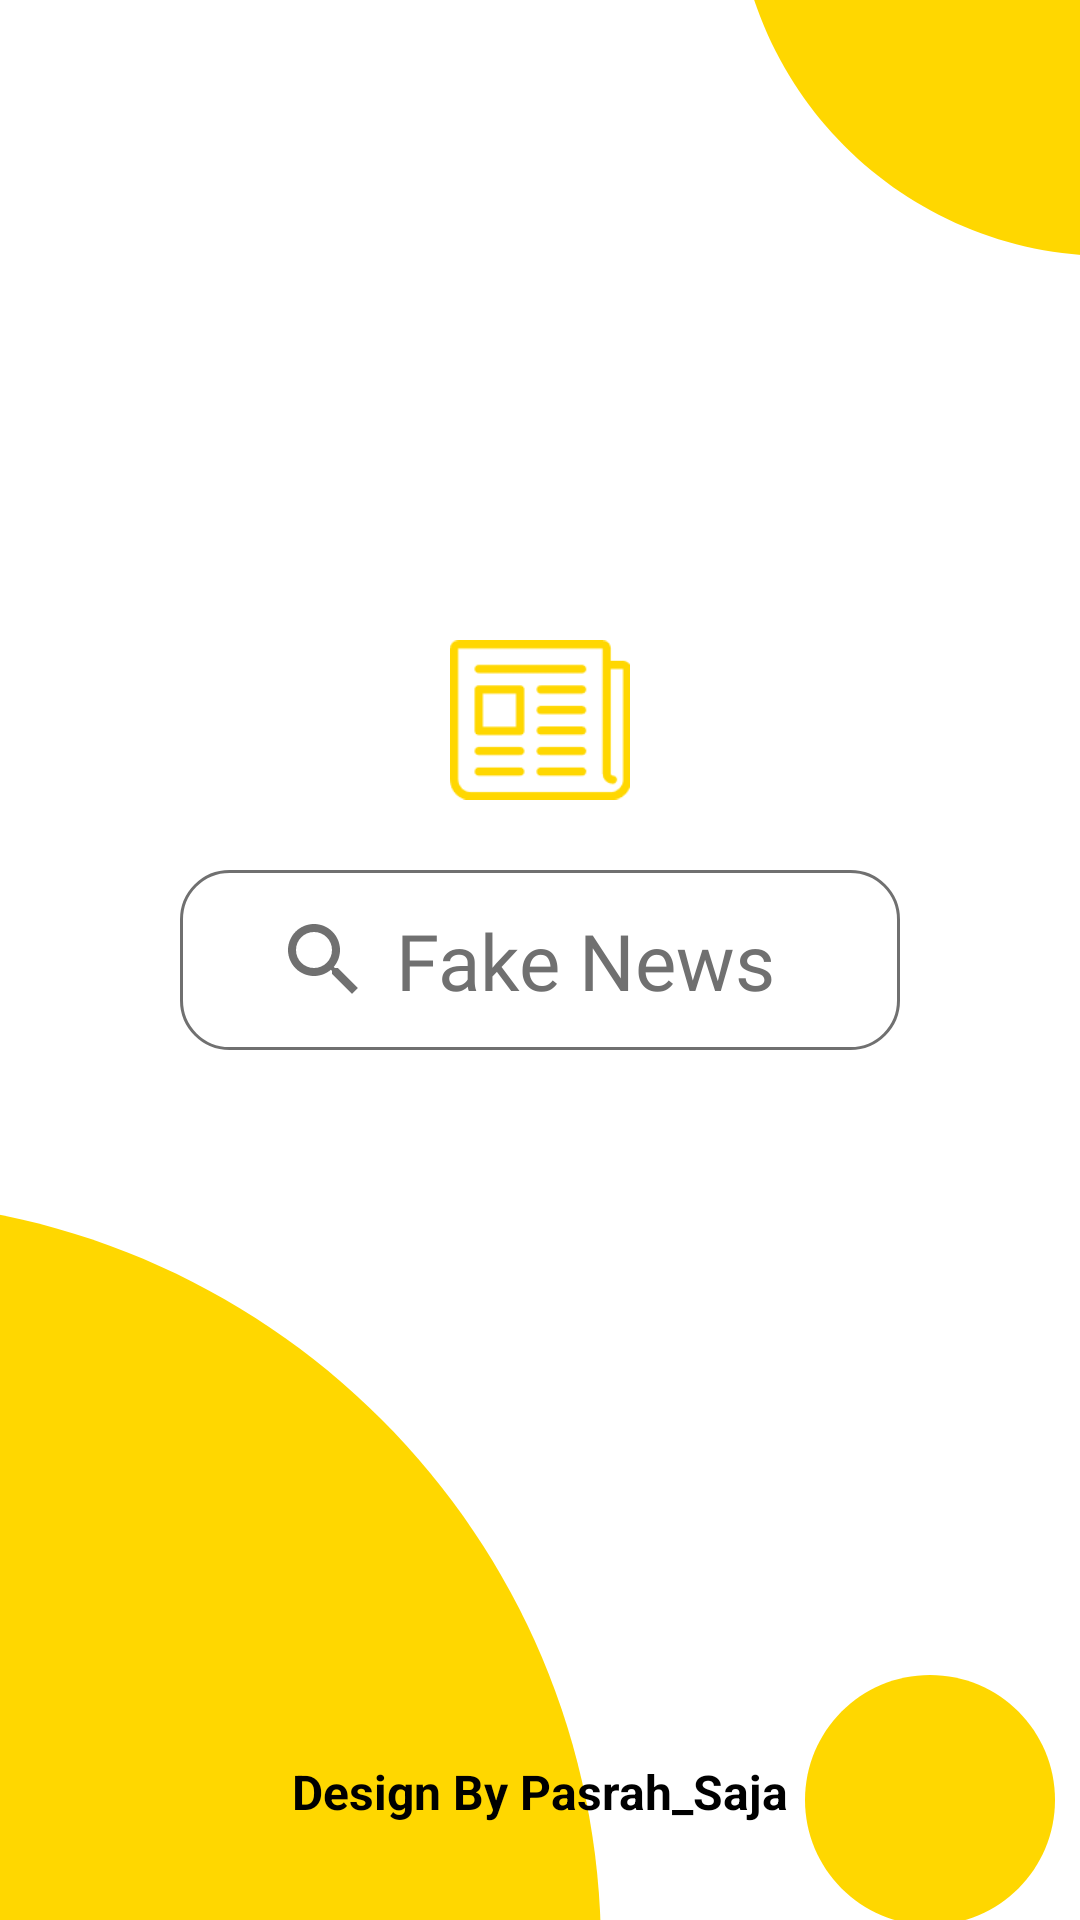

Screen size 1080*1920. Icon name, then its box in pixels as BBox(x1, y1, x2, y2):
News Yellow: BBox(450, 640, 630, 800)
search: BBox(288, 924, 358, 994)
